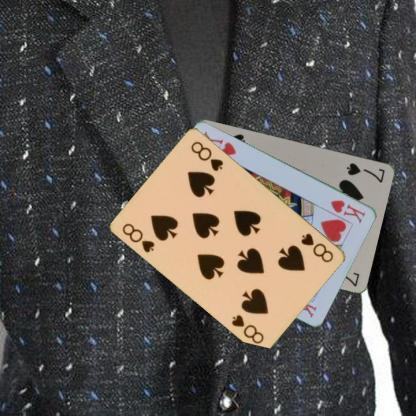7s: (344, 160, 386, 184)
8s: (119, 220, 156, 254), (298, 231, 336, 264)
Kh: (328, 197, 368, 225)
